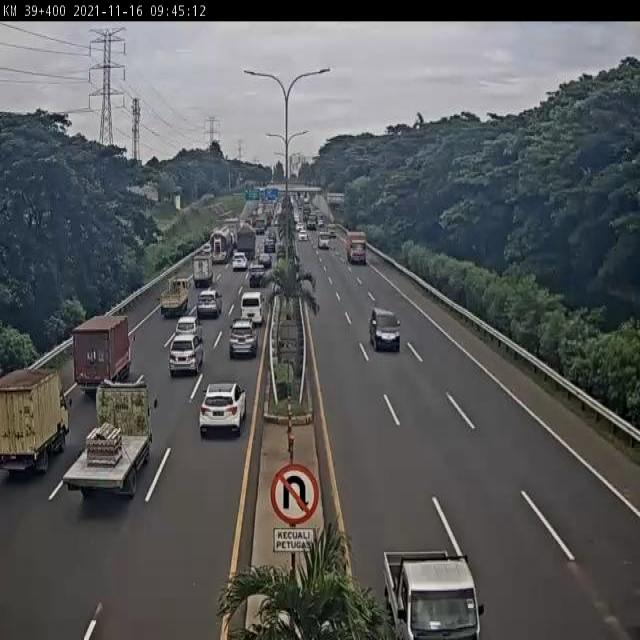Car: (382, 548, 481, 639), (199, 381, 247, 437), (168, 331, 204, 376), (370, 309, 403, 353), (228, 319, 260, 360), (196, 288, 222, 319), (248, 262, 266, 286), (232, 252, 248, 271), (264, 236, 276, 253), (306, 214, 318, 231), (318, 233, 330, 249), (298, 229, 308, 241), (328, 224, 337, 236), (318, 218, 324, 228)
Truck: (63, 384, 155, 501), (0, 369, 71, 474), (72, 314, 134, 385), (160, 276, 192, 318), (208, 224, 233, 265), (191, 253, 214, 285), (346, 231, 366, 265), (237, 223, 256, 257)
Van: (240, 290, 264, 326)
